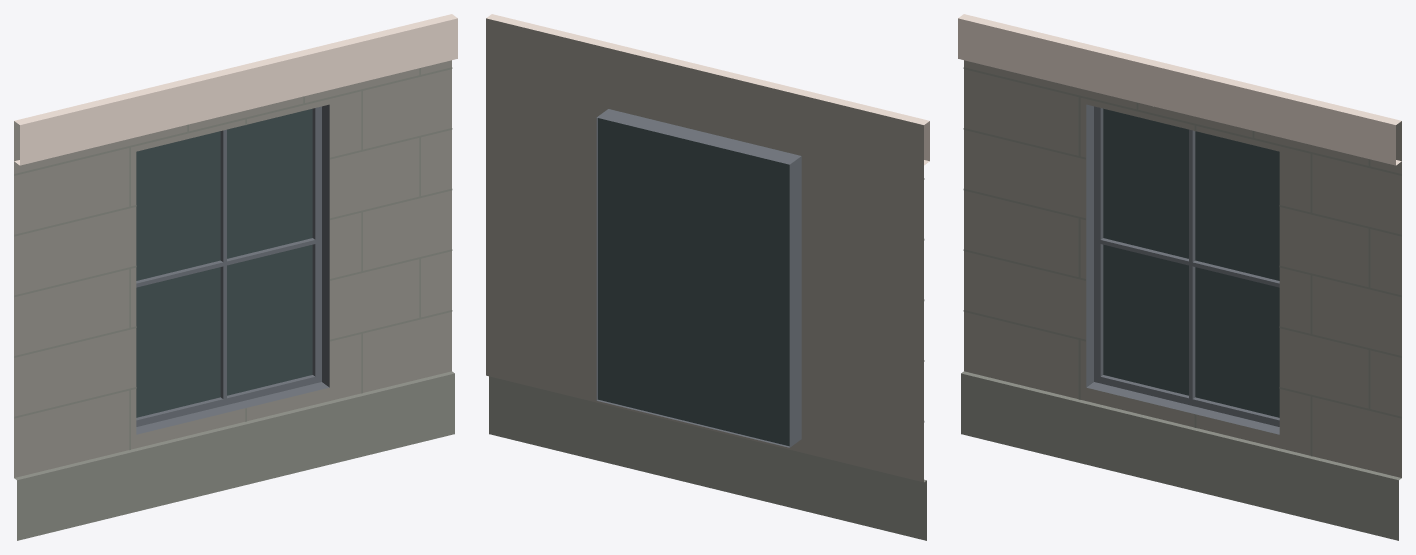
The model's file is base-w1_close.fbx.
3 renders of one model, left to right at view 1: azimuth 30°, elevation 25°; view 2: azimuth 150°, elevation 25°; view 3: azimuth 330°, elevation 25°, orthographic.
Visible parts, largest first — view 1: a2001/800/base-w1_close; view 2: a2001/800/base-w1_close; view 3: a2001/800/base-w1_close.
Boxes of the visible parts, box(x1,y1,x2,y2) form: a2001/800/base-w1_close: box(14, 14, 457, 540); a2001/800/base-w1_close: box(486, 14, 929, 540); a2001/800/base-w1_close: box(958, 14, 1401, 540).
Size of the model in its own units: 3.4 by 3.1 by 0.24.
